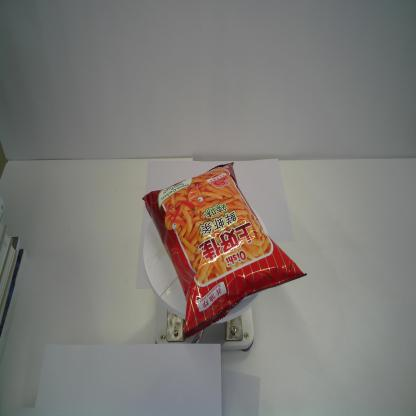Puffed Food: (141, 162, 307, 342)
